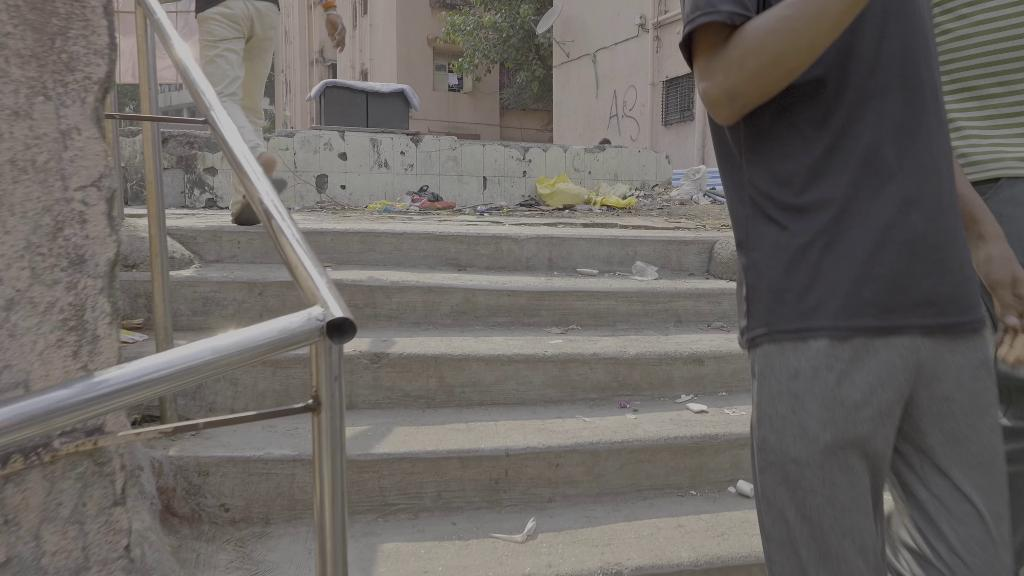garbage: (533, 176, 642, 210), (403, 184, 460, 215)
